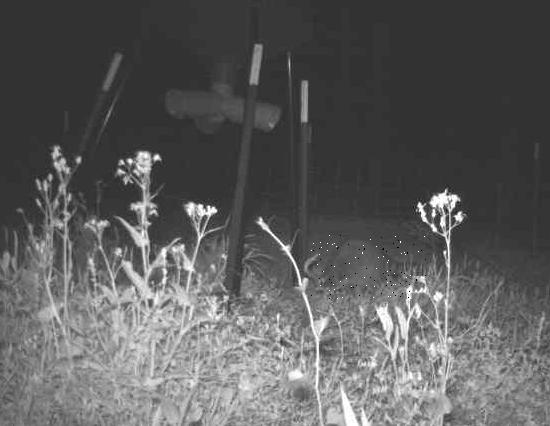Raccoon: (310, 236, 425, 300)
